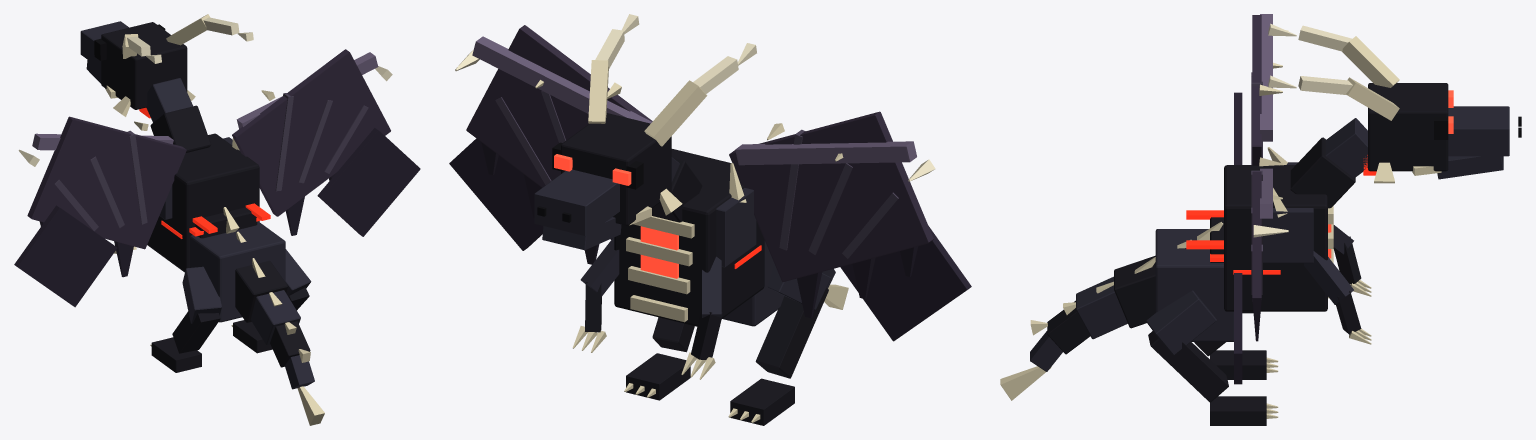
File: dreadscale.glb
3 views of the same model, side by side, from view 1: azimuth 30°, elevation 25°; view 2: azimuth 150°, elevation 25°; view 3: azimuth 270°, elevation 25° (orthographic). The views are drawn at different scales.
Visible parts, largest first — view 1: wing.L, wing.R, body, head, tail, leg.BR, leg.BL; view 2: wing.R, head, wing.L, body, leg.BR, leg.BL, arm.R, arm.L, tail; view 3: head, body, tail, leg.BL, wing.L, wing.R, arm.L, leg.BR, arm.R.
Part boxes in pixels (<box>): wing.L: <box>232,49,420,236</box>; wing.R: <box>14,116,186,307</box>; body: <box>147,133,285,322</box>; head: <box>80,14,253,152</box>; tail: <box>235,258,324,425</box>; leg.BR: <box>150,266,221,372</box>; leg.BL: <box>231,249,311,353</box>; wing.R: <box>729,111,971,341</box>; head: <box>534,14,756,250</box>; wing.L: <box>449,25,652,264</box>; body: <box>612,149,784,326</box>; leg.BR: <box>728,264,830,425</box>; leg.BL: <box>624,317,694,400</box>; arm.R: <box>681,256,722,379</box>; arm.L: <box>572,237,619,352</box>; tail: <box>822,268,848,309</box>; head: <box>1268,23,1521,208</box>; body: <box>1155,147,1333,341</box>; tail: <box>1000,255,1155,400</box>; leg.BL: <box>1146,290,1278,425</box>; wing.L: <box>1234,157,1288,384</box>; wing.R: <box>1234,14,1288,165</box>; arm.L: <box>1304,251,1371,344</box>; leg.BR: <box>1194,342,1278,379</box>; arm.R: <box>1333,225,1371,296</box>.
Bounding box in the file's own units: 1.41 × 1 × 1.36.
